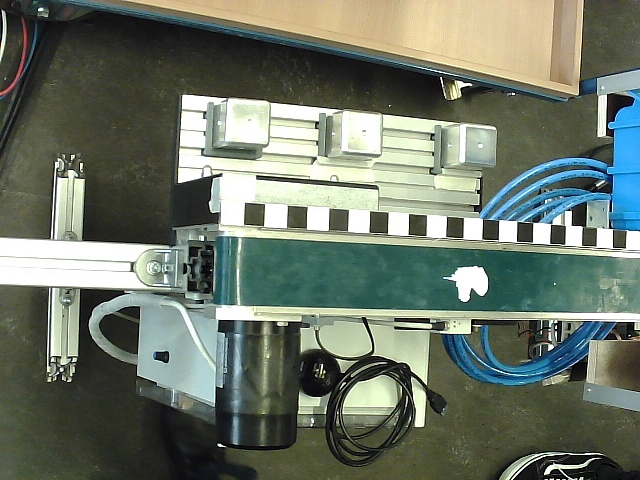unicorn: (443, 265, 489, 302)
